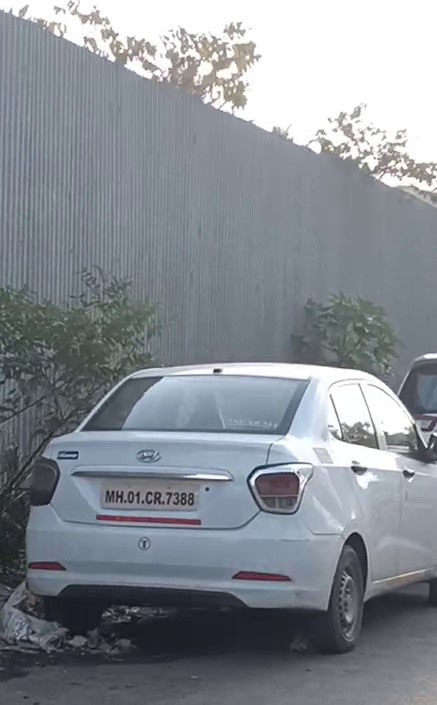MH01CR7388: (98, 479, 200, 512)
